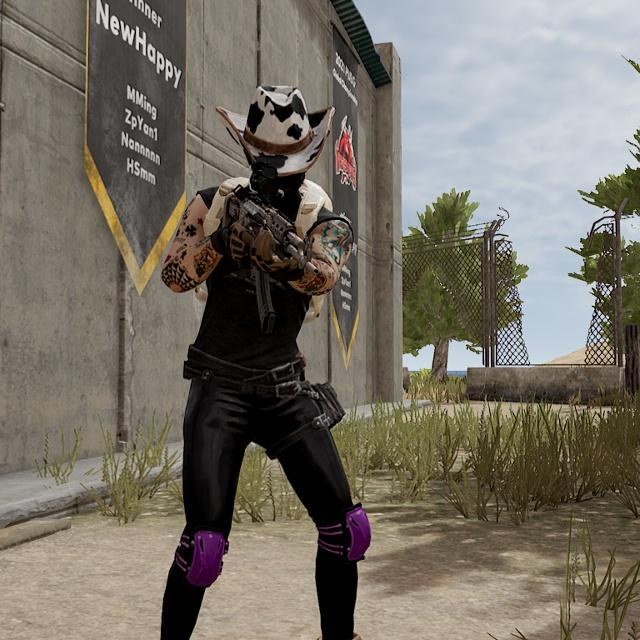head: (240, 84, 315, 210)
people: (151, 68, 383, 640)
